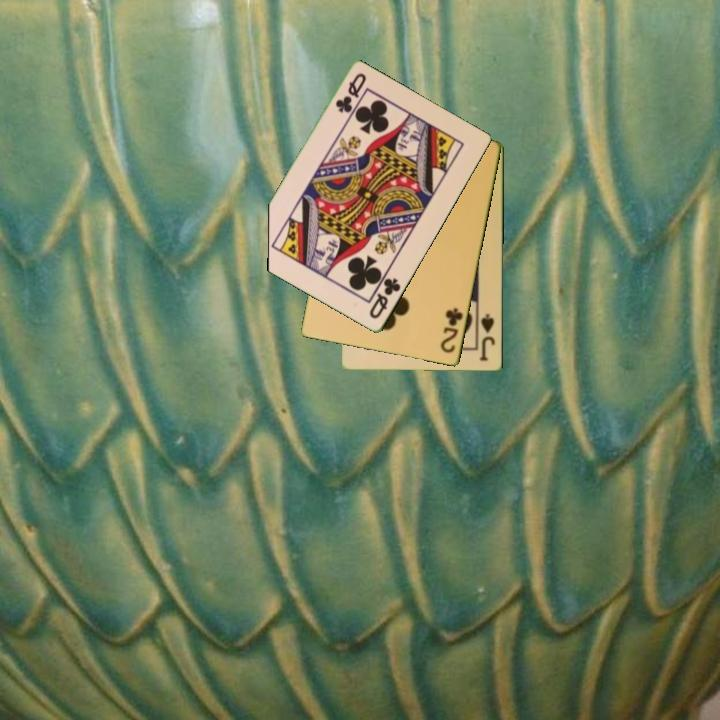2c: (437, 304, 466, 356)
Js: (477, 311, 498, 364)
Qc: (366, 275, 404, 322), (332, 70, 370, 116)
